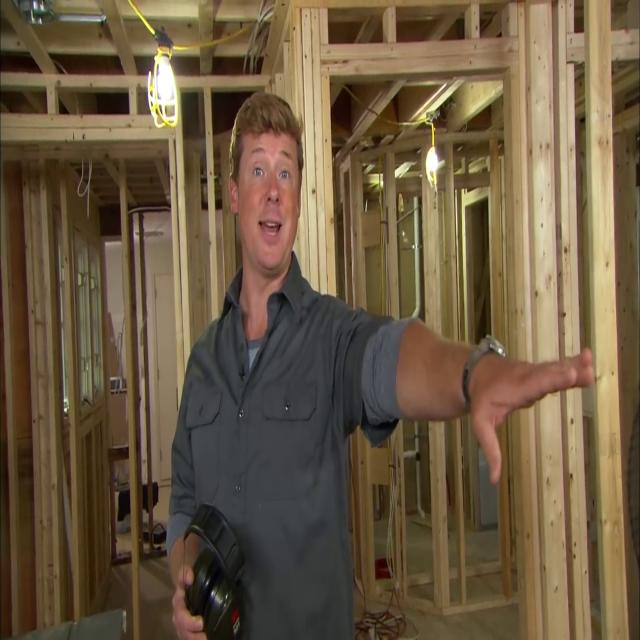earmuff: (202, 561, 248, 640), (183, 543, 217, 629)
